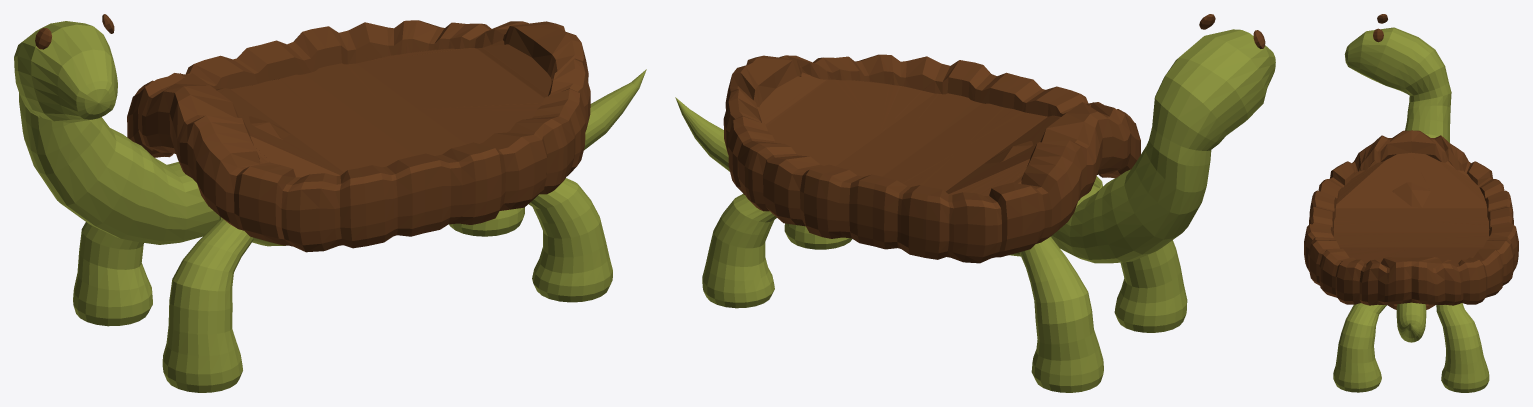
The picture shows the model from 3 angles, left to right: view 1: azimuth 30°, elevation 25°; view 2: azimuth 150°, elevation 25°; view 3: azimuth 270°, elevation 25°; orthographic projection. The views are drawn at different scales.
Bounding box in the file's own units: 13.76 × 7.69 × 6.71.
